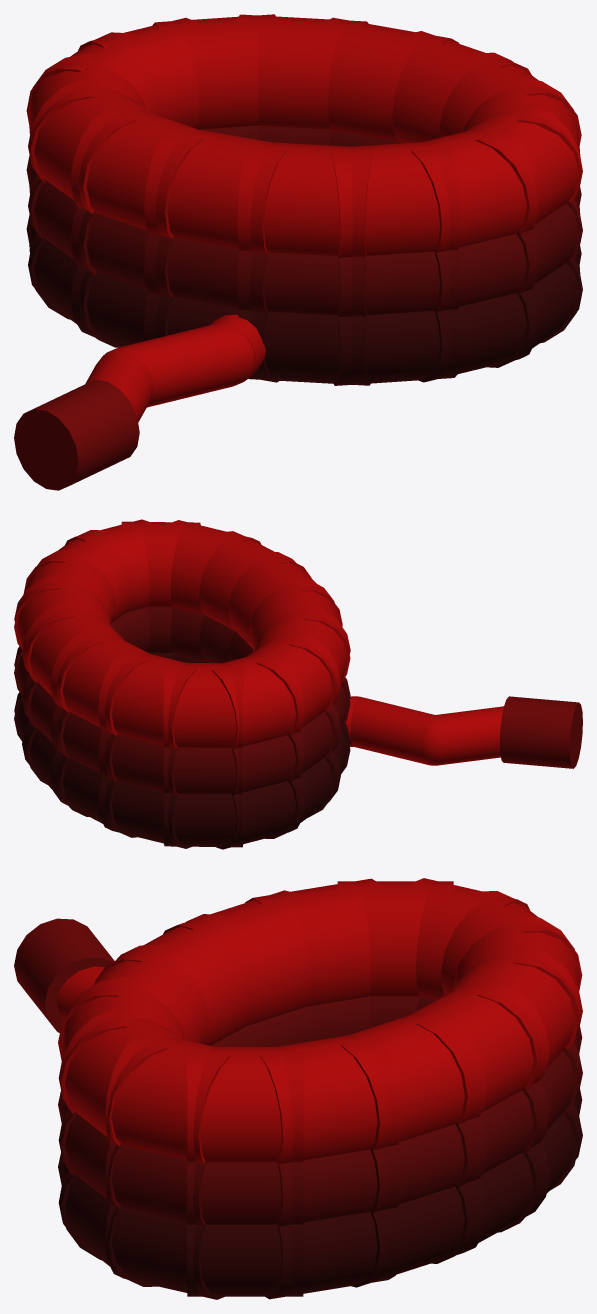
The model's file is CMU3DHandRMCCableCoilCloud.glb.
The picture shows the model from 3 angles, top to bottom: view 1: azimuth 30°, elevation 25°; view 2: azimuth 150°, elevation 25°; view 3: azimuth 270°, elevation 25°; orthographic projection. The views are drawn at different scales.
Parts seen in each view (by area): view 1: coiled cable turn 3 9, coiled cable turn 3 8, coiled cable turn 3 10, tinted exposed terminal, coiled cable turn 3 11, coiled cable turn 3 7, coiled cable turn 3 1, coiled cable turn 3 16, coiled cable turn 3 2, coiled cable turn 1 10, coiled cable turn 3 6, coiled cable turn 1 9 (+25 smaller); view 2: coiled cable turn 3 4, tinted exposed terminal, coiled cable turn 3 3, coiled cable turn 3 5, coiled cable turn 3 2, coiled cable turn 3 1, loose cable lead segment 2, coiled cable turn 3 6, coiled cable turn 1 4, coiled cable turn 3 10, coiled cable turn 1 3, coiled cable turn 2 4 (+29 smaller); view 3: coiled cable turn 3 15, coiled cable turn 3 14, coiled cable turn 3 16, coiled cable turn 3 13, coiled cable turn 3 1, coiled cable turn 3 8, coiled cable turn 3 7, coiled cable turn 1 14, coiled cable turn 1 15, coiled cable turn 3 9, coiled cable turn 3 2, coiled cable turn 3 12 (+23 smaller).
Part boxes in pixels (x1=…): coiled cable turn 3 9: x1=237, y1=142, x2=372, y2=258; coiled cable turn 3 8: x1=144, y1=129, x2=285, y2=254; coiled cable turn 3 10: x1=331, y1=142, x2=460, y2=257; tinted exposed terminal: x1=14, y1=380, x2=139, y2=490; coiled cable turn 3 11: x1=411, y1=127, x2=537, y2=254; coiled cable turn 3 7: x1=70, y1=106, x2=203, y2=239; coiled cable turn 3 1: x1=236, y1=14, x2=368, y2=129; coiled cable turn 3 16: x1=323, y1=17, x2=458, y2=141; coiled cable turn 3 2: x1=152, y1=14, x2=278, y2=129; coiled cable turn 1 10: x1=333, y1=309, x2=460, y2=385; coiled cable turn 3 6: x1=28, y1=79, x2=152, y2=213; coiled cable turn 1 9: x1=238, y1=310, x2=370, y2=385; coiled cable turn 3 4: x1=163, y1=662, x2=243, y2=748; tinted exposed terminal: x1=499, y1=696, x2=582, y2=768; coiled cable turn 3 3: x1=98, y1=652, x2=196, y2=748; coiled cable turn 3 5: x1=211, y1=653, x2=304, y2=749; coiled cable turn 3 2: x1=50, y1=630, x2=149, y2=736; coiled cable turn 3 1: x1=22, y1=603, x2=124, y2=713; loose cable lead segment 2: x1=350, y1=697, x2=434, y2=764; coiled cable turn 3 6: x1=246, y1=632, x2=340, y2=737; coiled cable turn 1 4: x1=163, y1=793, x2=243, y2=847; coiled cable turn 3 10: x1=199, y1=531, x2=311, y2=630; coiled cable turn 1 3: x1=98, y1=776, x2=191, y2=848; coiled cable turn 2 4: x1=163, y1=747, x2=242, y2=794; coiled cable turn 3 15: x1=259, y1=1035, x2=402, y2=1165; coiled cable turn 3 14: x1=187, y1=1047, x2=303, y2=1162; coiled cable turn 3 16: x1=340, y1=1010, x2=486, y2=1151; coiled cable turn 3 13: x1=105, y1=1034, x2=230, y2=1164; coiled cable turn 3 1: x1=407, y1=978, x2=549, y2=1124; coiled cable turn 3 8: x1=163, y1=890, x2=312, y2=1025; coiled cable turn 3 7: x1=245, y1=878, x2=381, y2=1006; coiled cable turn 1 14: x1=187, y1=1224, x2=303, y2=1296; coiled cable turn 1 15: x1=265, y1=1207, x2=402, y2=1299; coiled cable turn 3 9: x1=94, y1=914, x2=254, y2=1045; coiled cable turn 3 2: x1=448, y1=944, x2=582, y2=1090; coiled cable turn 3 12: x1=58, y1=1008, x2=181, y2=1146.
Size of the model in its own units: 0.3787 by 0.134 by 0.2902.
